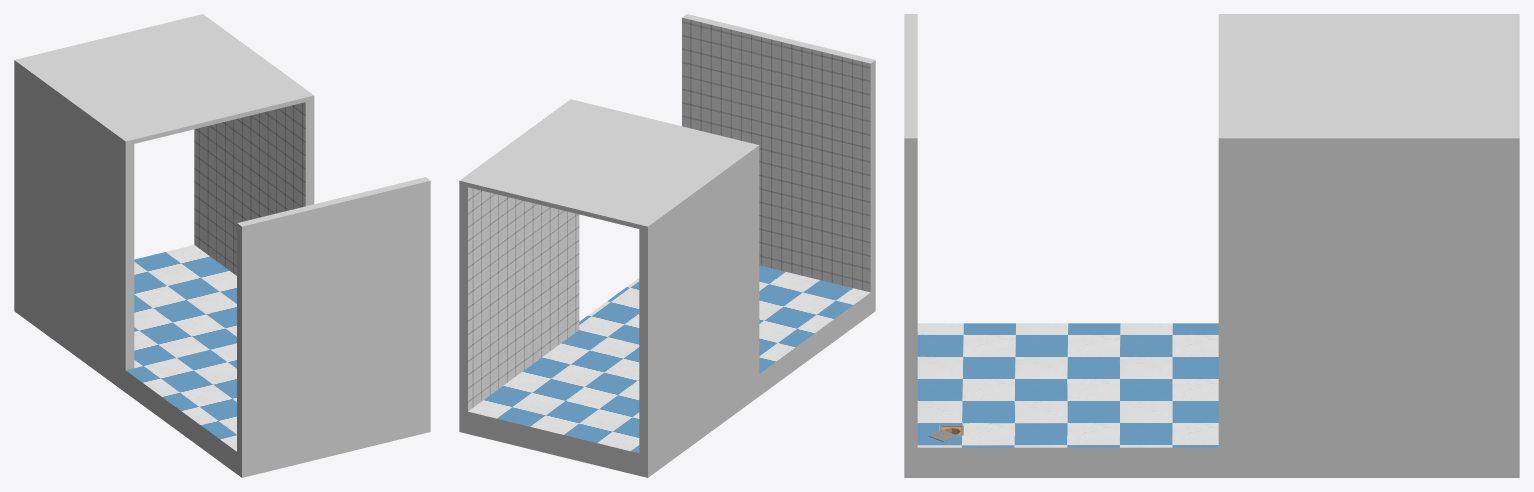
Rendered from tomato racing.fbx.
3 views of the same model, side by side, from view 1: azimuth 30°, elevation 25°; view 2: azimuth 150°, elevation 25°; view 3: azimuth 270°, elevation 25° (orthographic). The views are drawn at different scales.
Parts seen in each view (by area): view 1: 벽 1.6m 토마토, 벽 2.25m, 천장 토마토, 바닥 토마토 01, 바닥 토마토 02; view 2: 벽 2.25m, 벽 1.6m 토마토, 천장 토마토, 바닥 토마토 01, 바닥 토마토 02; view 3: 벽 2.25m, 바닥 토마토 02, 천장 토마토, 바닥 토마토 01, 벽 1.6m 토마토.
Boxes of the visible parts, x1,y1,x2,y2 form: 벽 1.6m 토마토: (237, 177, 430, 477); 벽 2.25m: (14, 65, 314, 370); 천장 토마토: (14, 14, 314, 145); 바닥 토마토 01: (14, 245, 236, 392); 바닥 토마토 02: (125, 343, 236, 473); 벽 2.25m: (459, 150, 759, 455); 벽 1.6m 토마토: (682, 14, 875, 314); 천장 토마토: (459, 99, 759, 230); 바닥 토마토 01: (459, 330, 759, 477); 바닥 토마토 02: (579, 265, 870, 395); 벽 2.25m: (1218, 144, 1519, 447); 바닥 토마토 02: (917, 323, 1218, 477); 천장 토마토: (1218, 14, 1519, 144); 바닥 토마토 01: (1218, 447, 1519, 477); 벽 1.6m 토마토: (904, 14, 917, 477).
Size of the model in its own units: 220 by 280 by 460.
